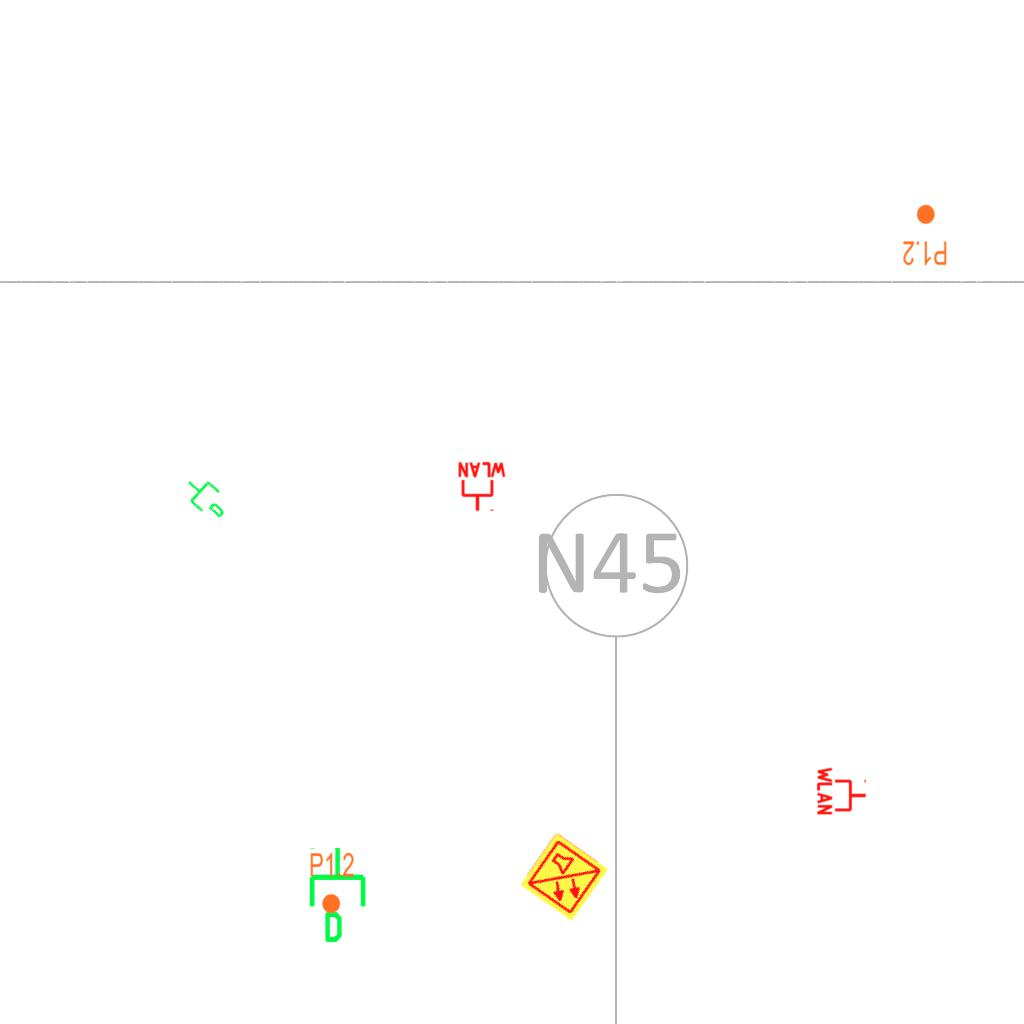Datenanschluss_einfach: (305, 845, 374, 945), (177, 467, 237, 527)
Downlight_LED_Einbauleuchten_Flur: (902, 203, 948, 267), (309, 851, 355, 915)
OKW_Multisensormelder_(Kombination_optischer_Rauch-Kahlenmonoxid_Waerme-Melder): (518, 831, 610, 923)
WLAN: (456, 461, 508, 513), (816, 765, 868, 817)
